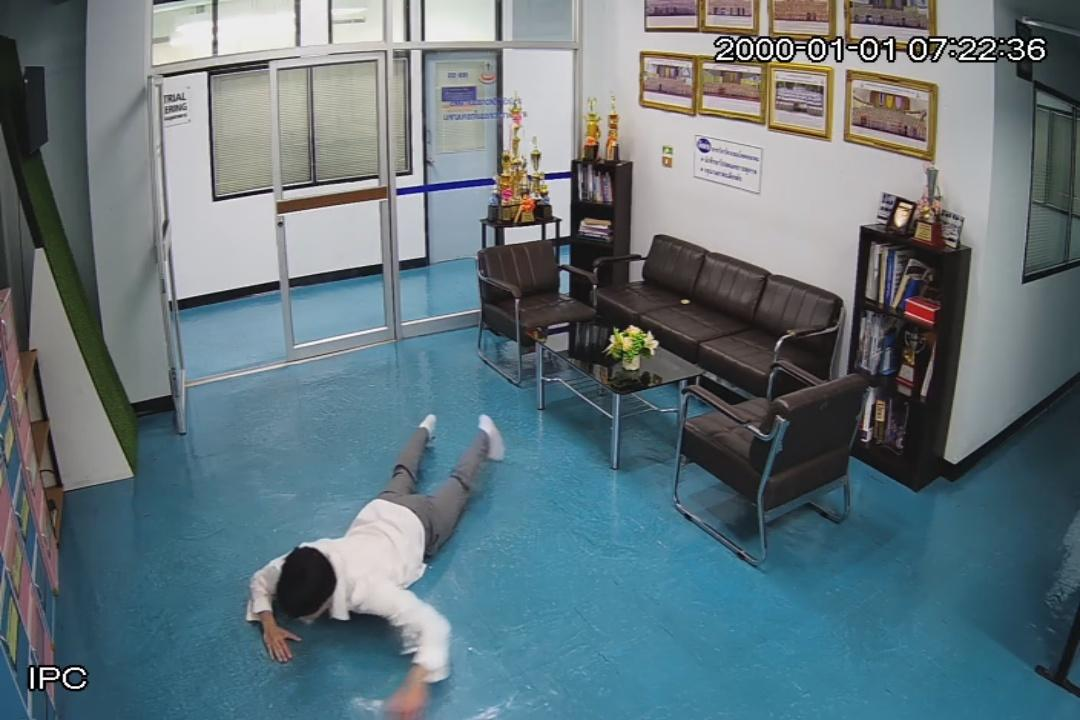fall: (253, 417, 499, 720)
